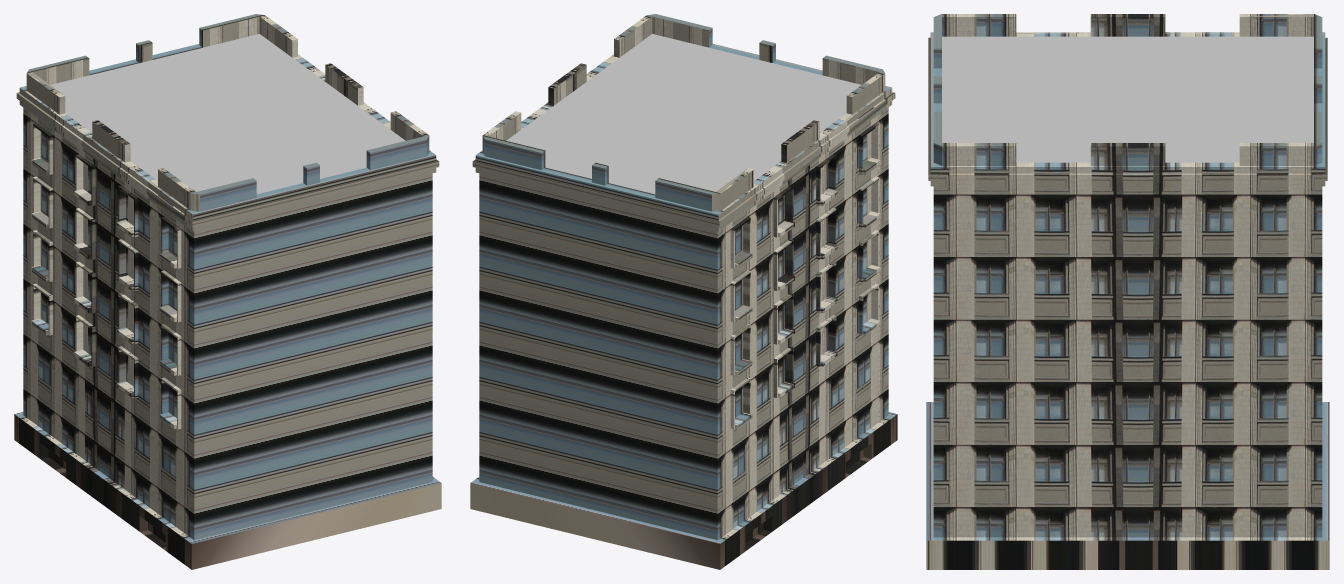
The model's file is bldg_02.FBX.
The picture shows the model from 3 angles, left to right: view 1: azimuth 30°, elevation 25°; view 2: azimuth 150°, elevation 25°; view 3: azimuth 270°, elevation 25°; orthographic projection. The views are drawn at different scales.
Parts seen in each view (by area): view 1: building_02; view 2: building_02; view 3: building_02.
Part boxes in pixels (box(x1,y1,x2,y2)): building_02: box(14, 14, 441, 569); building_02: box(470, 14, 897, 569); building_02: box(926, 14, 1329, 569).
Bounding box in the file's own units: 449 × 635 × 552.
